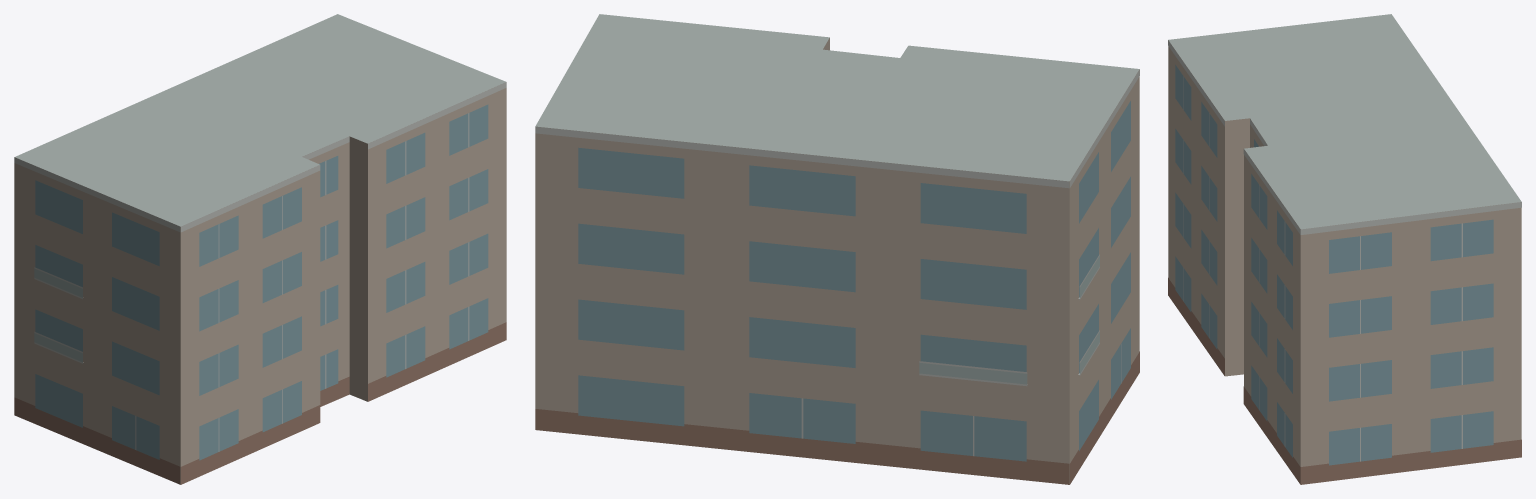
Rendered from survey-upis-32524209.glb.
3 renders of one model, left to right at view 1: azimuth 30°, elevation 25°; view 2: azimuth 150°, elevation 25°; view 3: azimuth 270°, elevation 25°, orthographic. The views are drawn at different scales.
Visible parts, largest first — view 1: survey-upis-32524209.tmp; view 2: survey-upis-32524209.tmp; view 3: survey-upis-32524209.tmp.
Part boxes in pixels (x1=…): survey-upis-32524209.tmp: x1=14, y1=14, x2=506, y2=484; survey-upis-32524209.tmp: x1=535, y1=14, x2=1139, y2=484; survey-upis-32524209.tmp: x1=1168, y1=14, x2=1521, y2=484.
Size of the model in its own units: 19.54 by 10.8 by 13.56.
